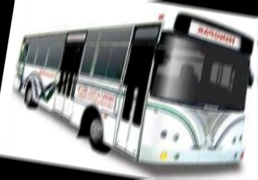bus: (6, 0, 258, 178)
